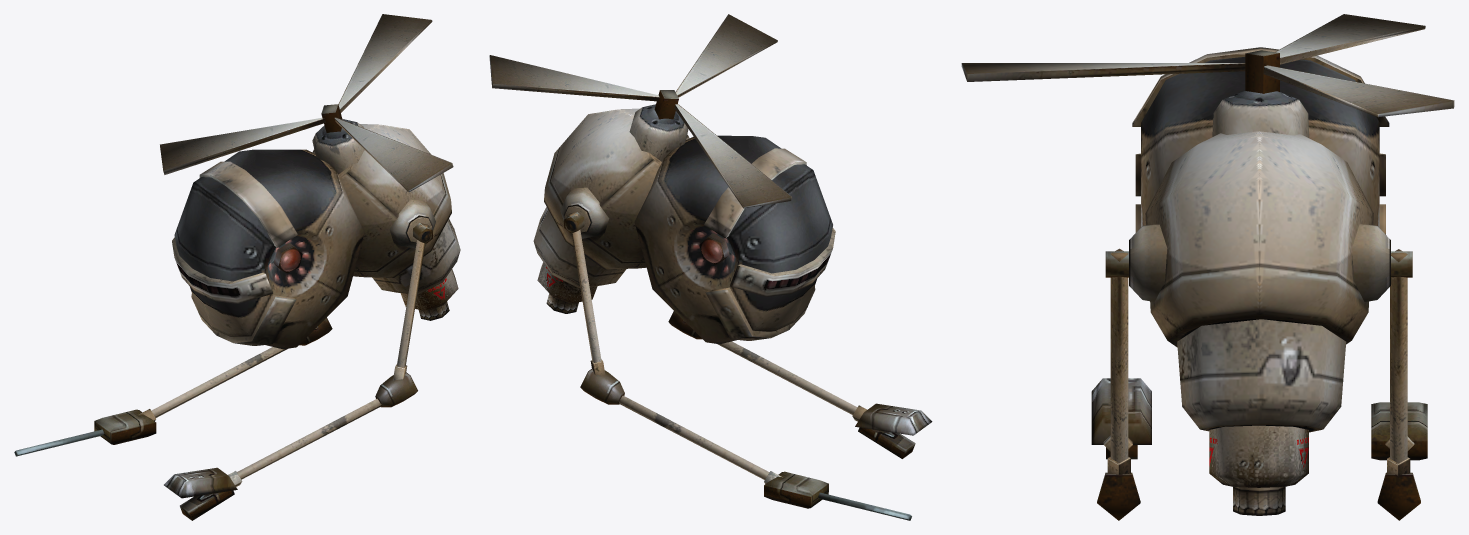
The model's file is drone.glb.
3 views of the same model, side by side, from view 1: azimuth 30°, elevation 25°; view 2: azimuth 150°, elevation 25°; view 3: azimuth 270°, elevation 25° (orthographic). The views are drawn at different scales.
Parts seen in each view (by area): view 1: __lithtech_lh_to_gltf_rh__, kopf; view 2: __lithtech_lh_to_gltf_rh__, kopf; view 3: __lithtech_lh_to_gltf_rh__, kopf.
Part boxes in pixels (bbox=[...]): __lithtech_lh_to_gltf_rh__: bbox=[14, 14, 460, 520]; kopf: bbox=[312, 119, 451, 277]; __lithtech_lh_to_gltf_rh__: bbox=[489, 14, 932, 520]; kopf: bbox=[544, 104, 689, 269]; __lithtech_lh_to_gltf_rh__: bbox=[961, 14, 1454, 520]; kopf: bbox=[1105, 91, 1412, 347].
Bounding box in the file's own units: 96.87 × 81.77 × 61.2.
1 material, 1 textured.
